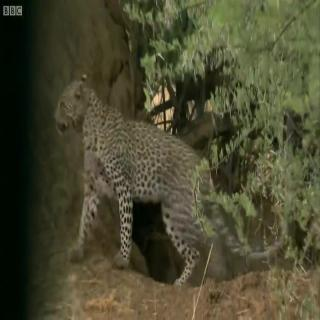Leopard: (37, 47, 273, 282)
